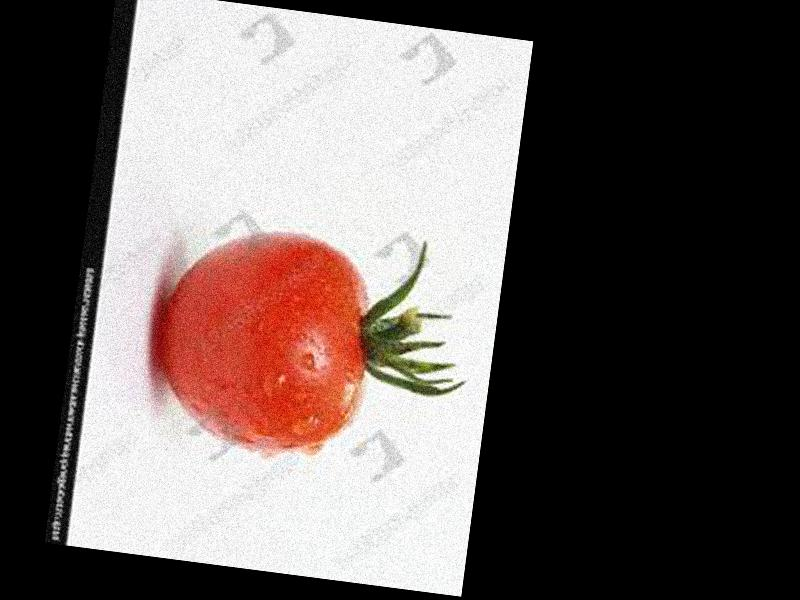Tomato: (148, 218, 378, 461)
